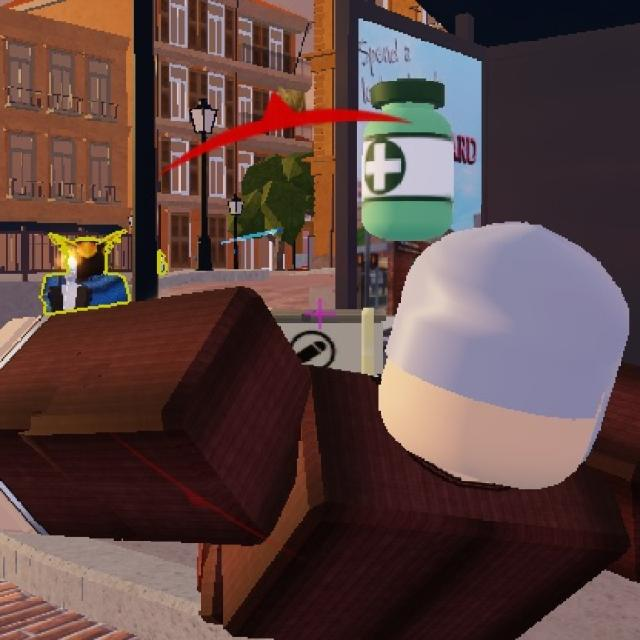player: (41, 226, 131, 312), (156, 248, 169, 279)
